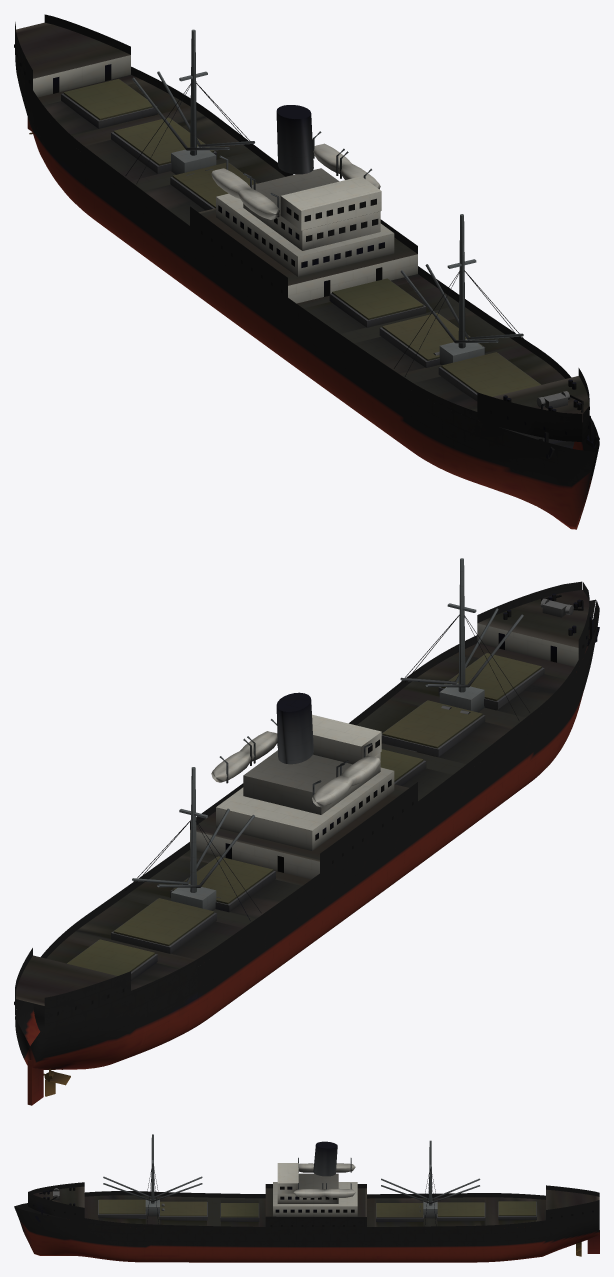
The model's file is model_built.glb.
3 views of the same model, one above another, from view 1: azimuth 30°, elevation 25°; view 2: azimuth 150°, elevation 25°; view 3: azimuth 270°, elevation 25° (orthographic). The views are drawn at different scales.
Parts seen in each view (by area): view 1: main; view 2: main; view 3: main.
Part boxes in pixels (x1,y1,x2,y2): main: (14, 14, 599, 529); main: (14, 558, 599, 1105); main: (14, 1134, 599, 1262).
Bounding box in the file's own units: 16.62 × 28.43 × 124.
Materials: 1 (1 with a texture image).
